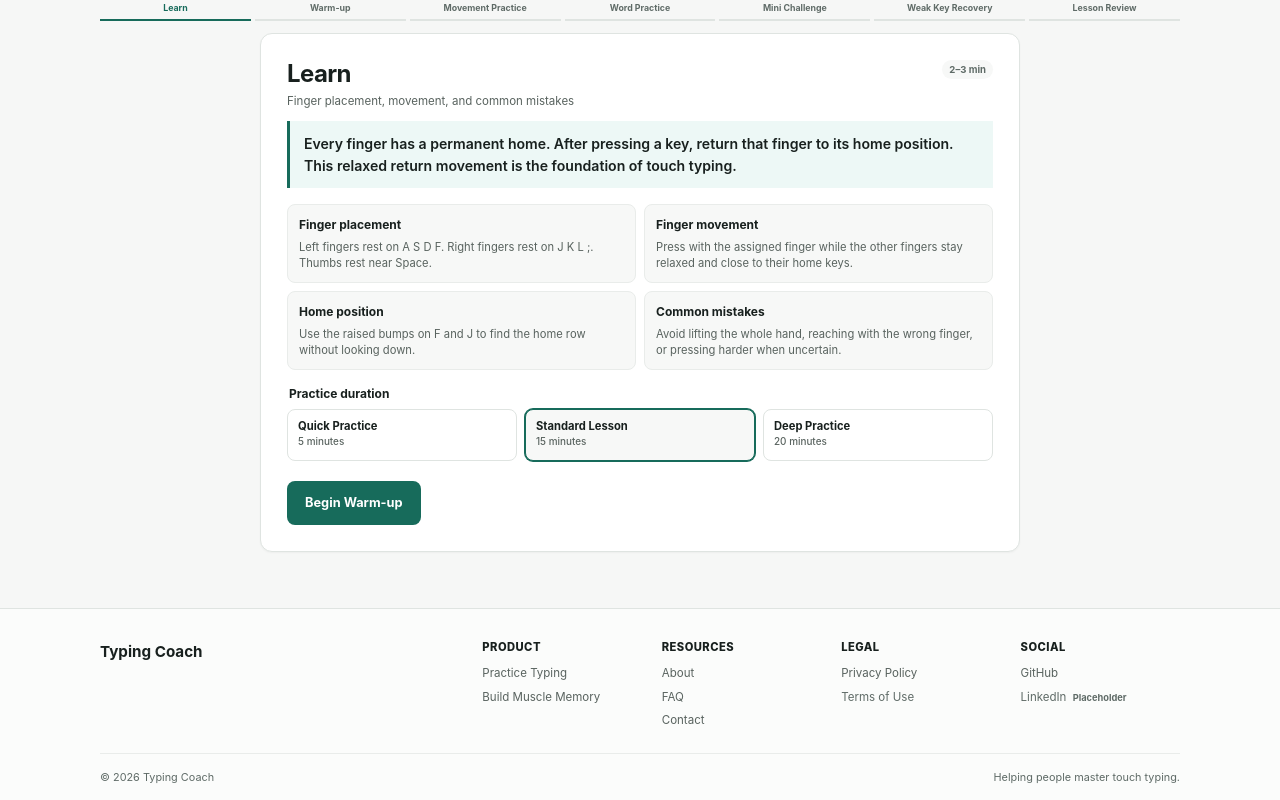
it: dynamic guided lesson session › shows completion metrics and persists only allowed lesson fields
(page scrolled)
Click the button "Begin Warm-up" at point(354, 504), box [287,482,421,526]
(page scrolled)
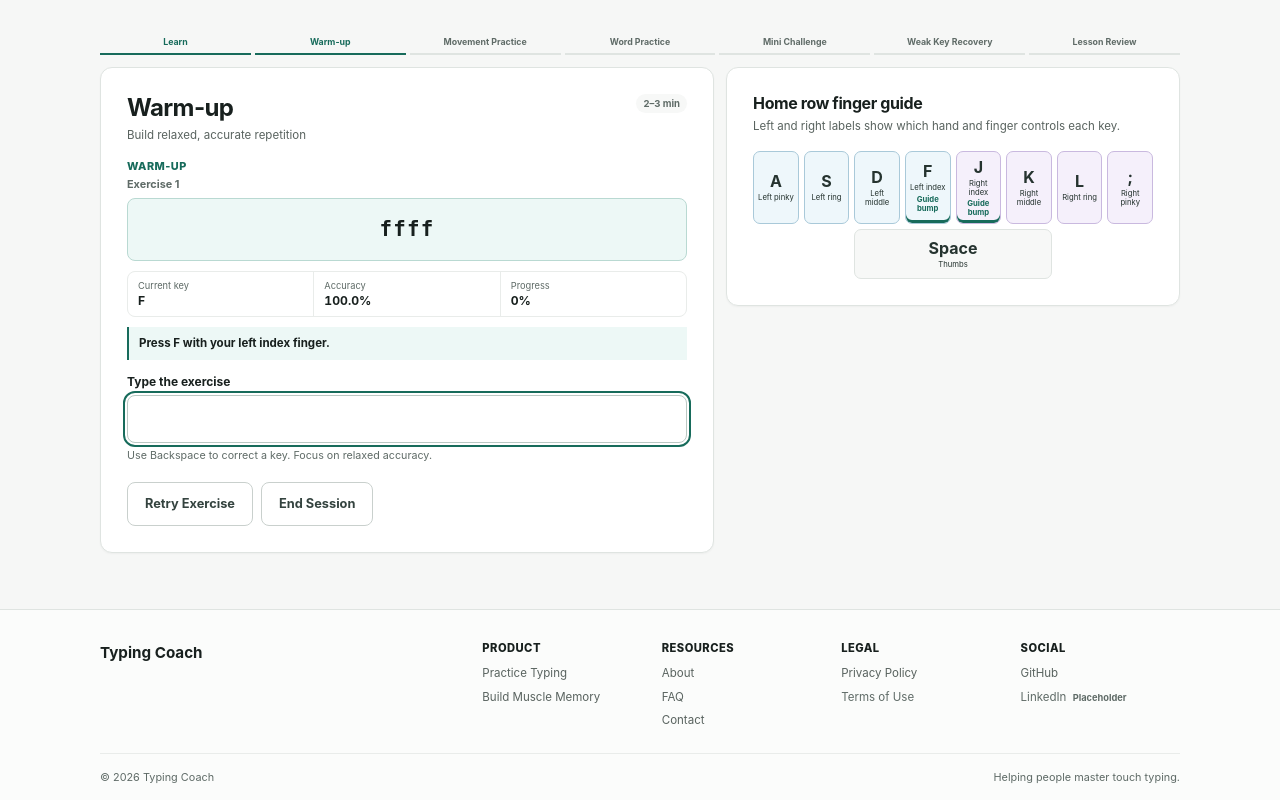
Click the button "End Session" at point(317, 504), box [261,482,374,526]
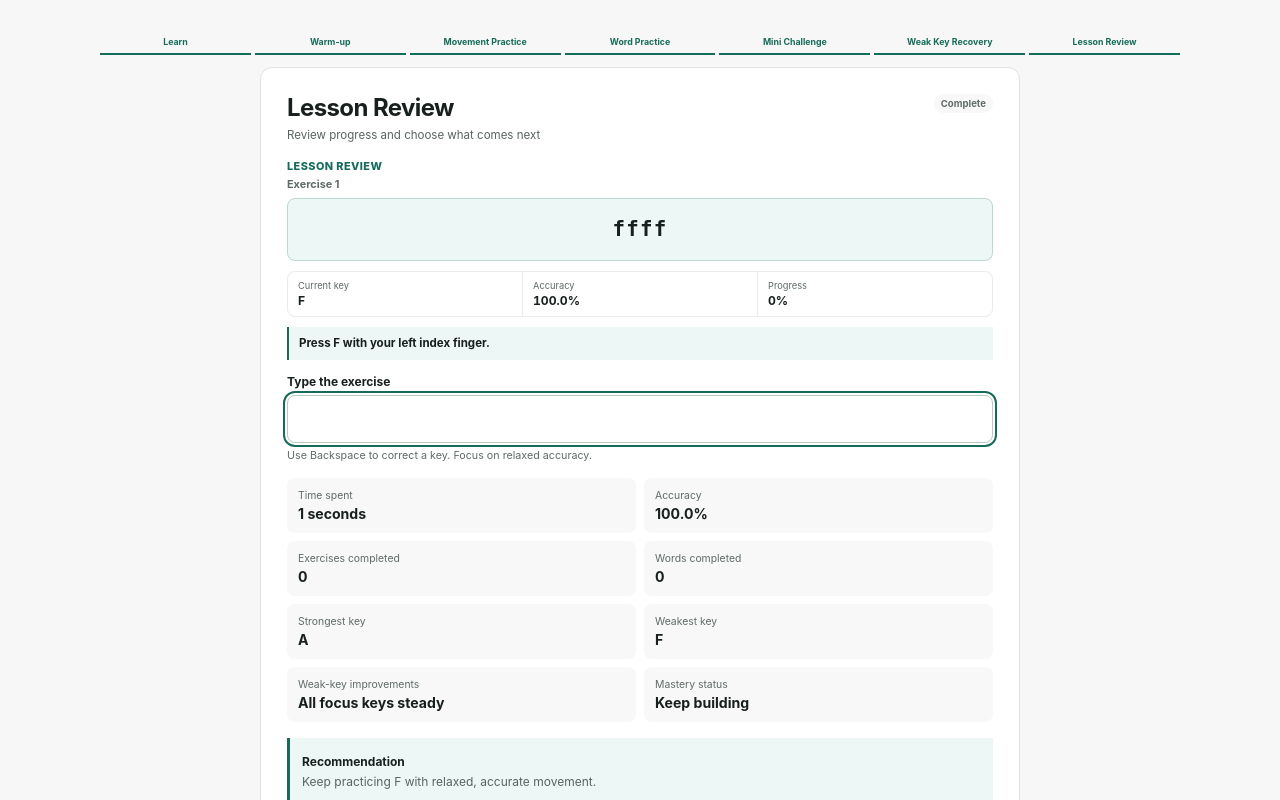
Expected: the text "Mastery status" is shown, [655,678,728,690]
Expected: the text "Weak-key improvements" is shown, [298,678,419,690]
